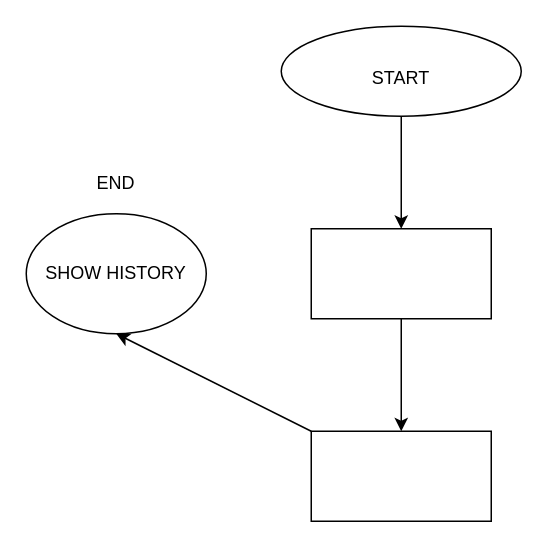
This 548x548 diagram has some shape labels left out. The shapes that lost their labels are listed below. From the top down, each one's box as (x1, y1, x2, y2) in pixels, then its label:
(310, 227, 491, 319): REQUEST PRODUCT INFORMATION
(310, 430, 491, 521): REGISTER SALE
